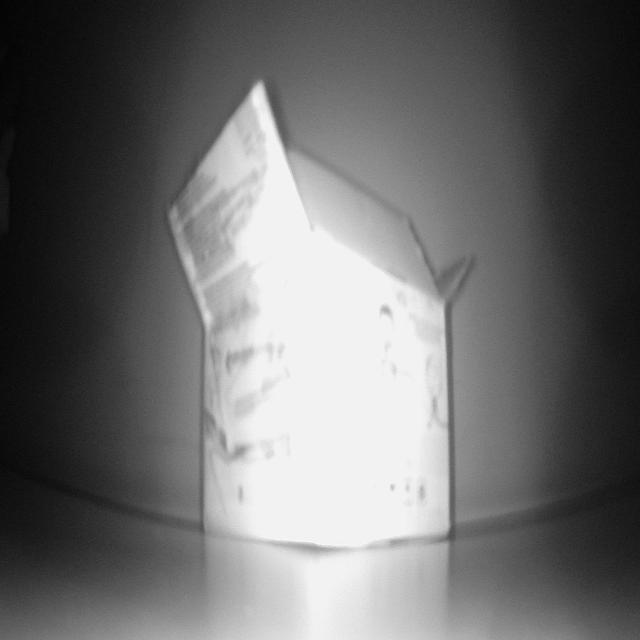targets: (164, 82, 476, 560)
